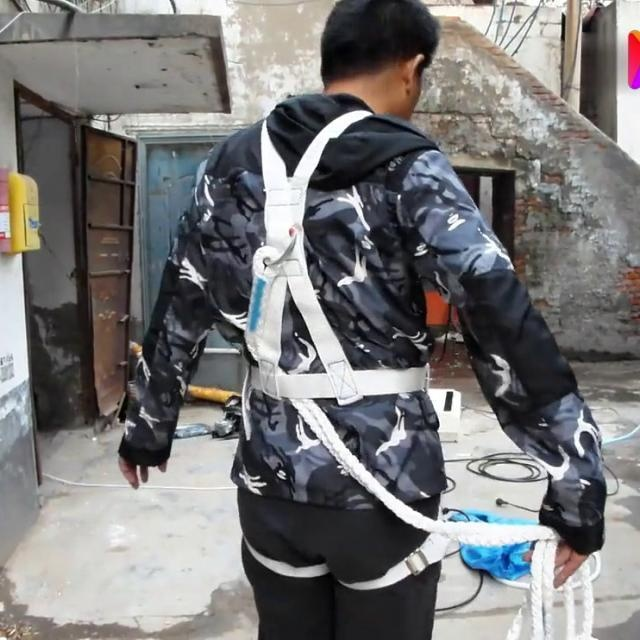Arnes_seguridad: (224, 99, 444, 417)
